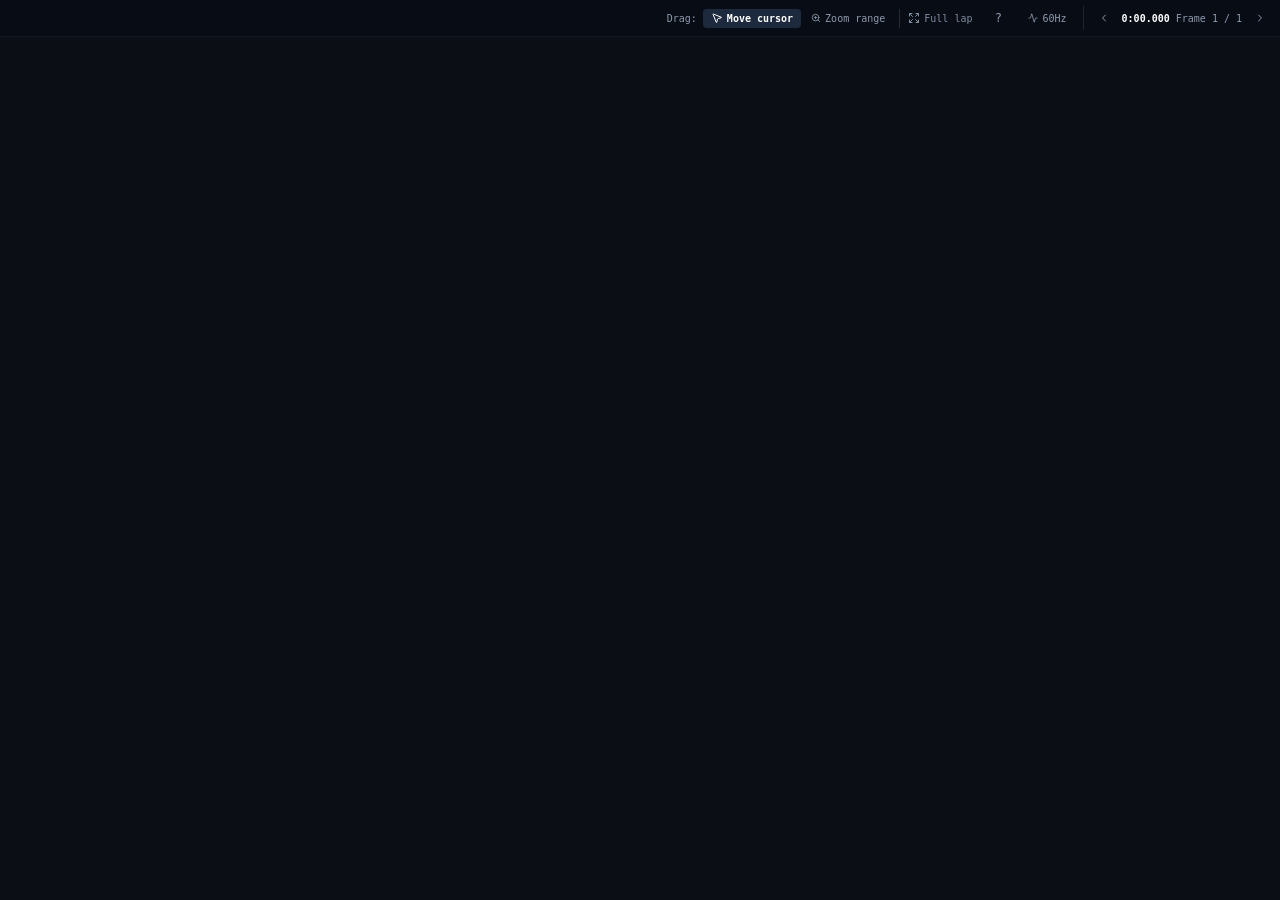
TelemetryStripToolbar › renders resolution button with sample rate and opens popover on click
The image size is (1280, 900).
# Click to open resolution popover
Click the button "60Hz".
click(1048, 18)  # box 1020,8 -> 1075,28
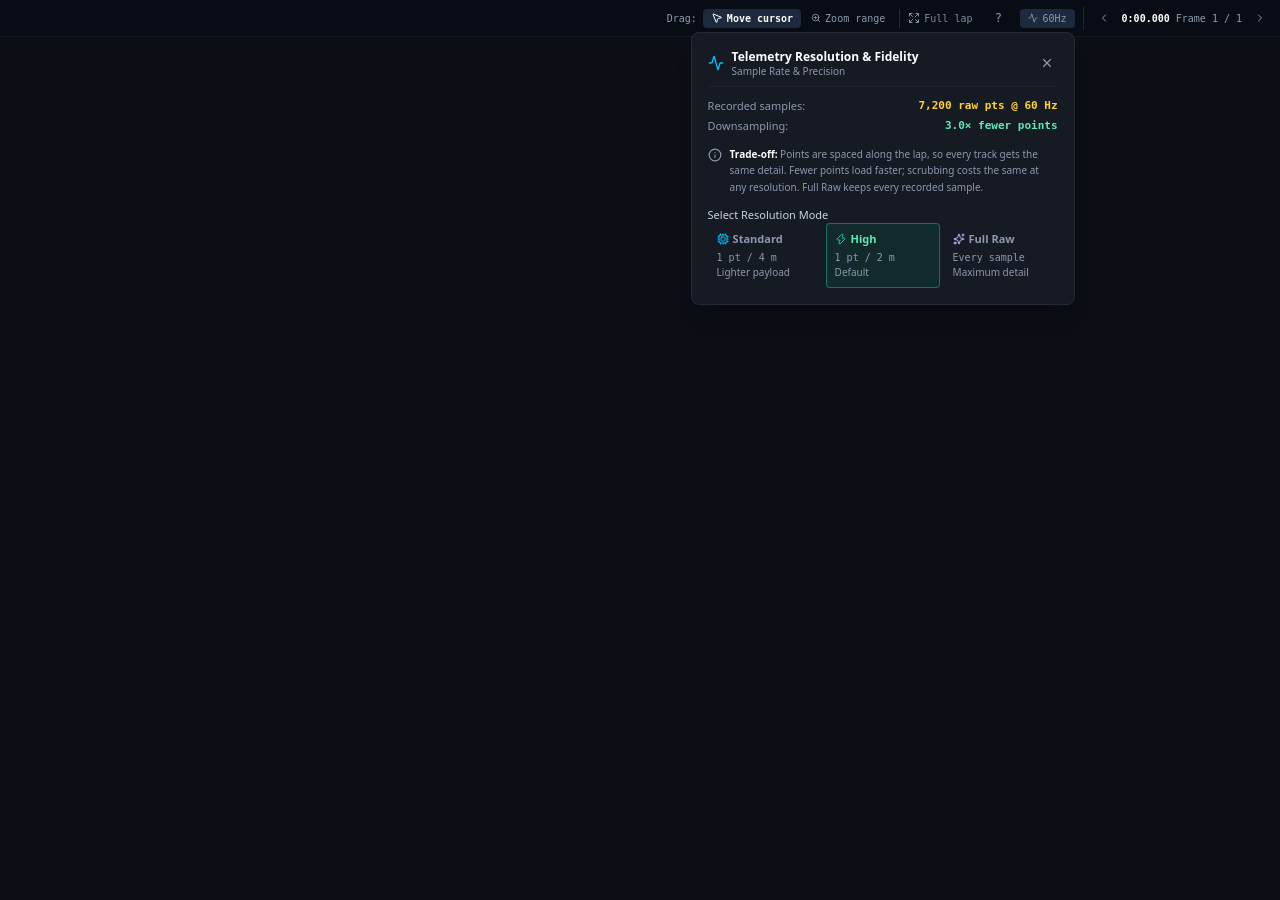
Expected: the heading "Telemetry Resolution & Fidelity" is shown, 732,48 -> 919,64
Expected: the text "7,200 raw pts @ 60 Hz" is shown, 918,99 -> 1058,114
